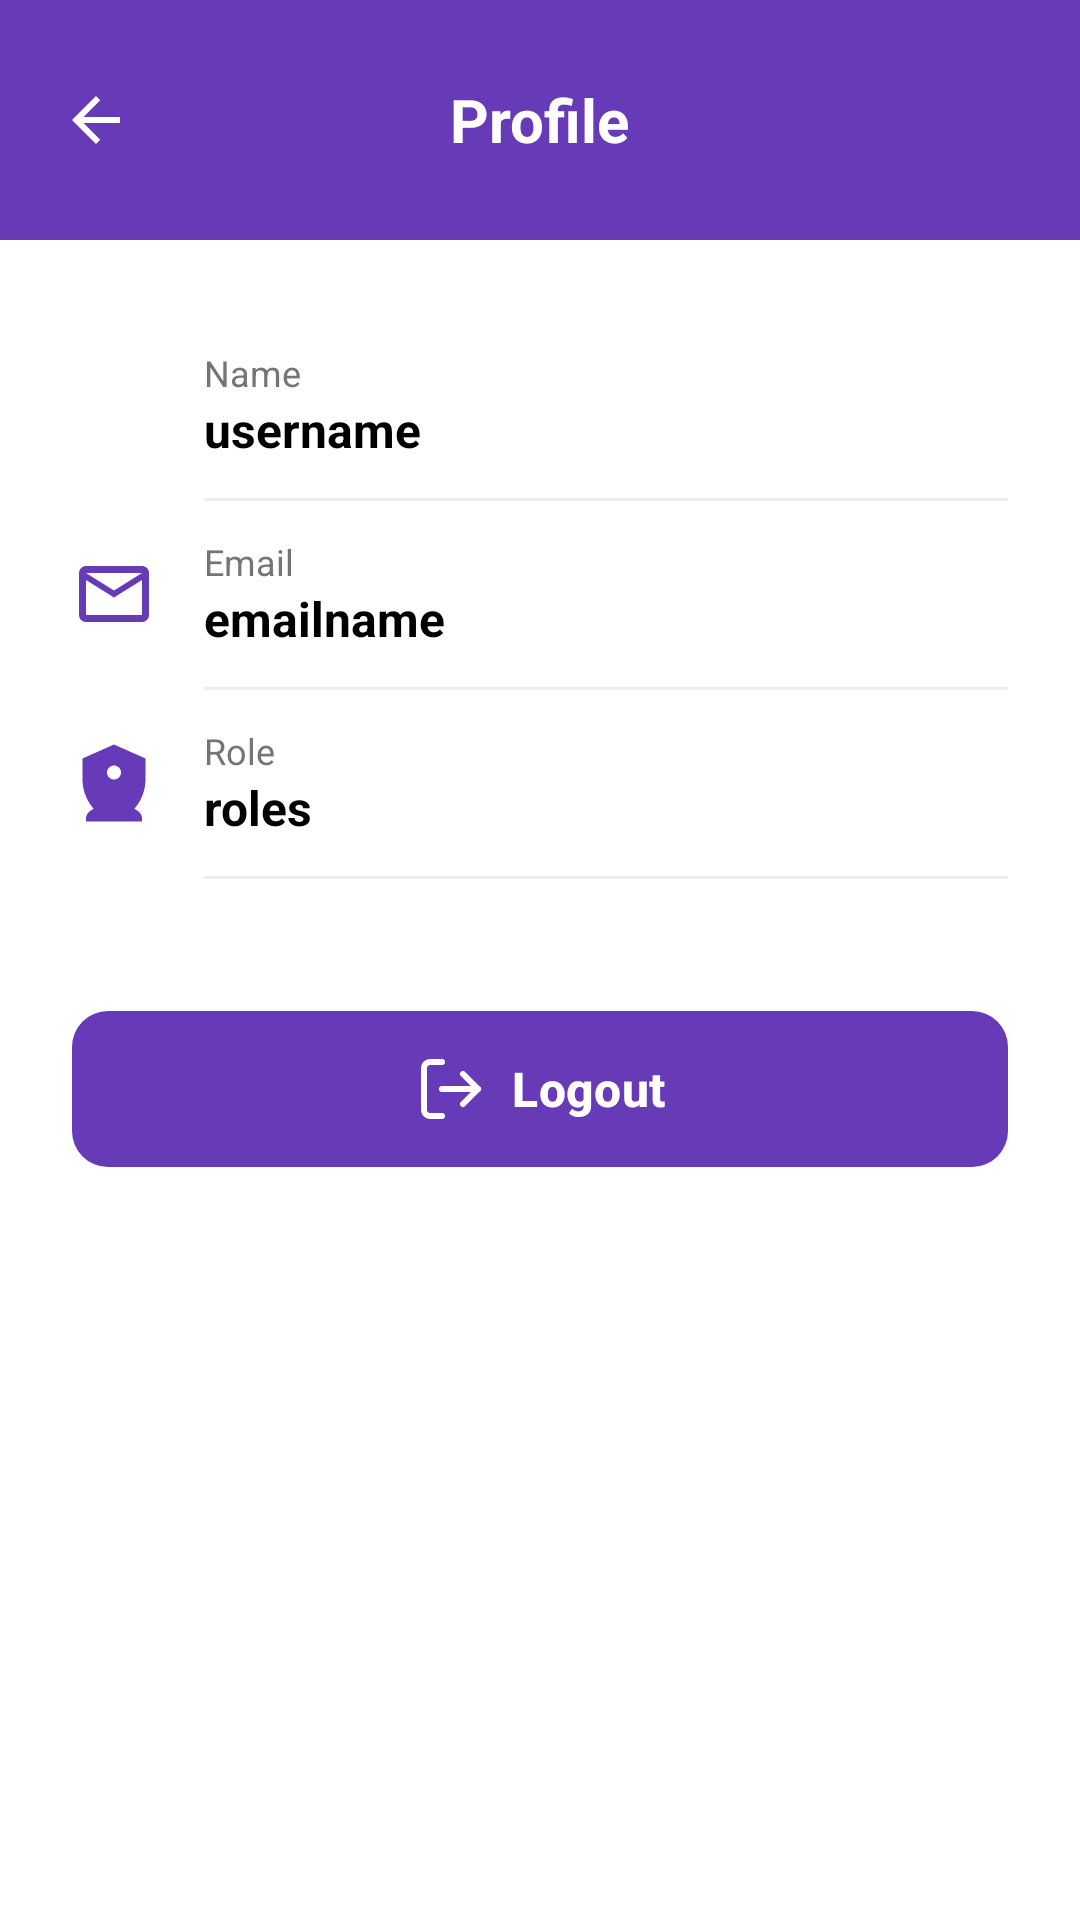

Icon bounding boxes for this 1080w x 1920h phone screenshot, format (x1, y1, x2, y2):
arrow back: (72, 96, 120, 144)
shield: (82, 744, 146, 822)
